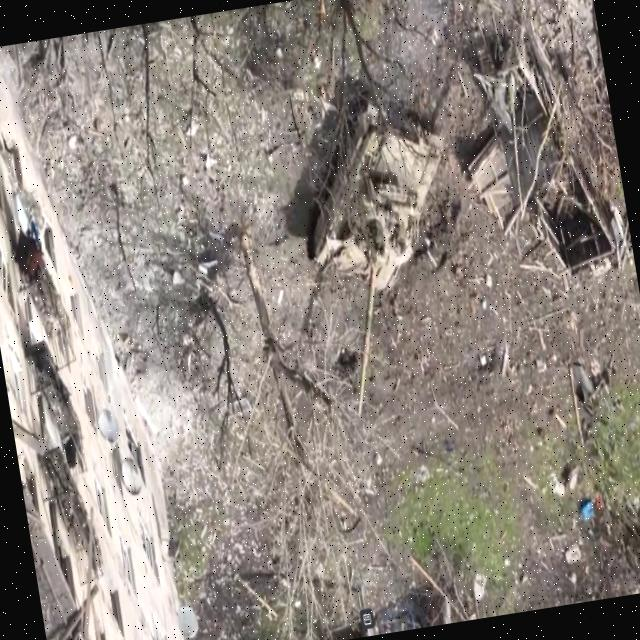MBT: (282, 79, 487, 423)
